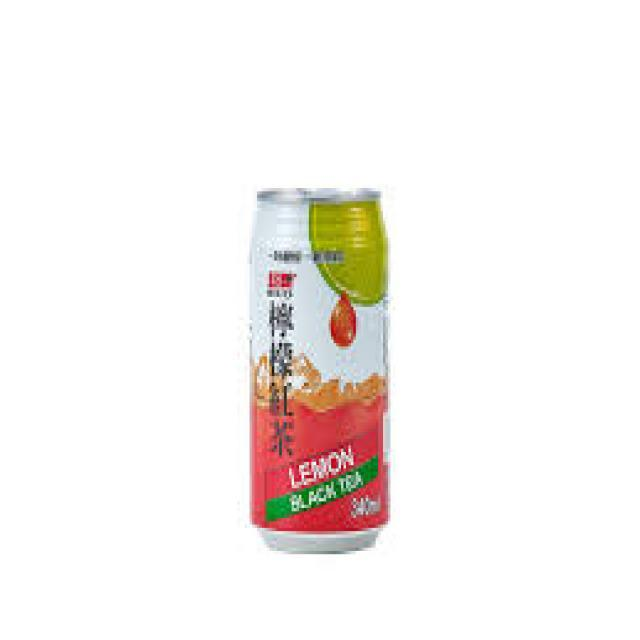recyclable: (249, 187, 391, 554)
